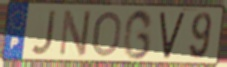9: (186, 11, 215, 61)
G: (121, 8, 155, 62)
J: (29, 9, 58, 57)
N: (57, 8, 93, 59)
O: (90, 9, 123, 58)
V: (158, 11, 187, 61)
